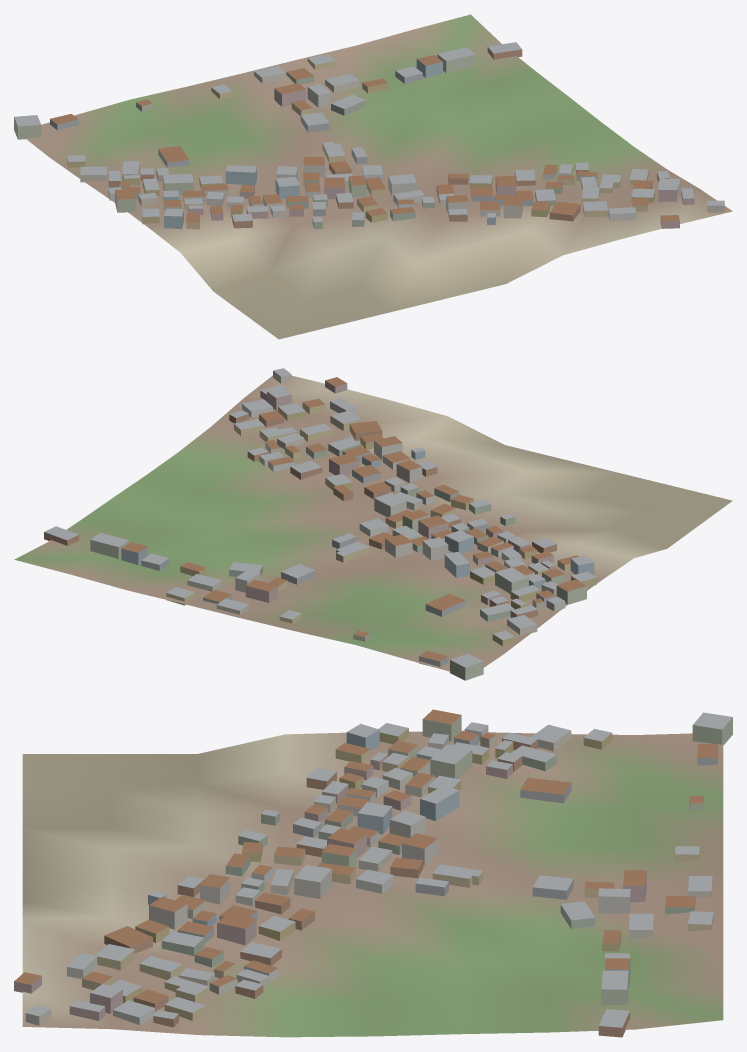
3 views of the same model, one above another, from view 1: azimuth 30°, elevation 25°; view 2: azimuth 150°, elevation 25°; view 3: azimuth 270°, elevation 25° (orthographic). The views are drawn at different scales.
Visible parts, largest first — view 1: Lo; view 2: Lo; view 3: Lo.
Boxes of the visible parts, x1,y1,x2,y2 form: Lo: (14,14,732,339); Lo: (14,368,732,680); Lo: (14,709,732,1037).
Size of the model in its own units: 265 by 15.84 by 263.
